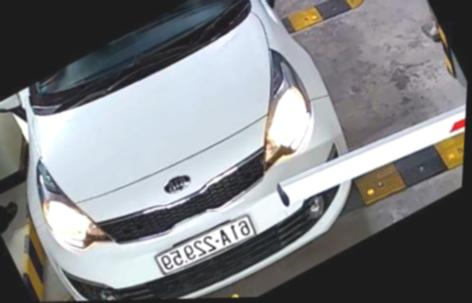License_Plate: (140, 213, 258, 281)
